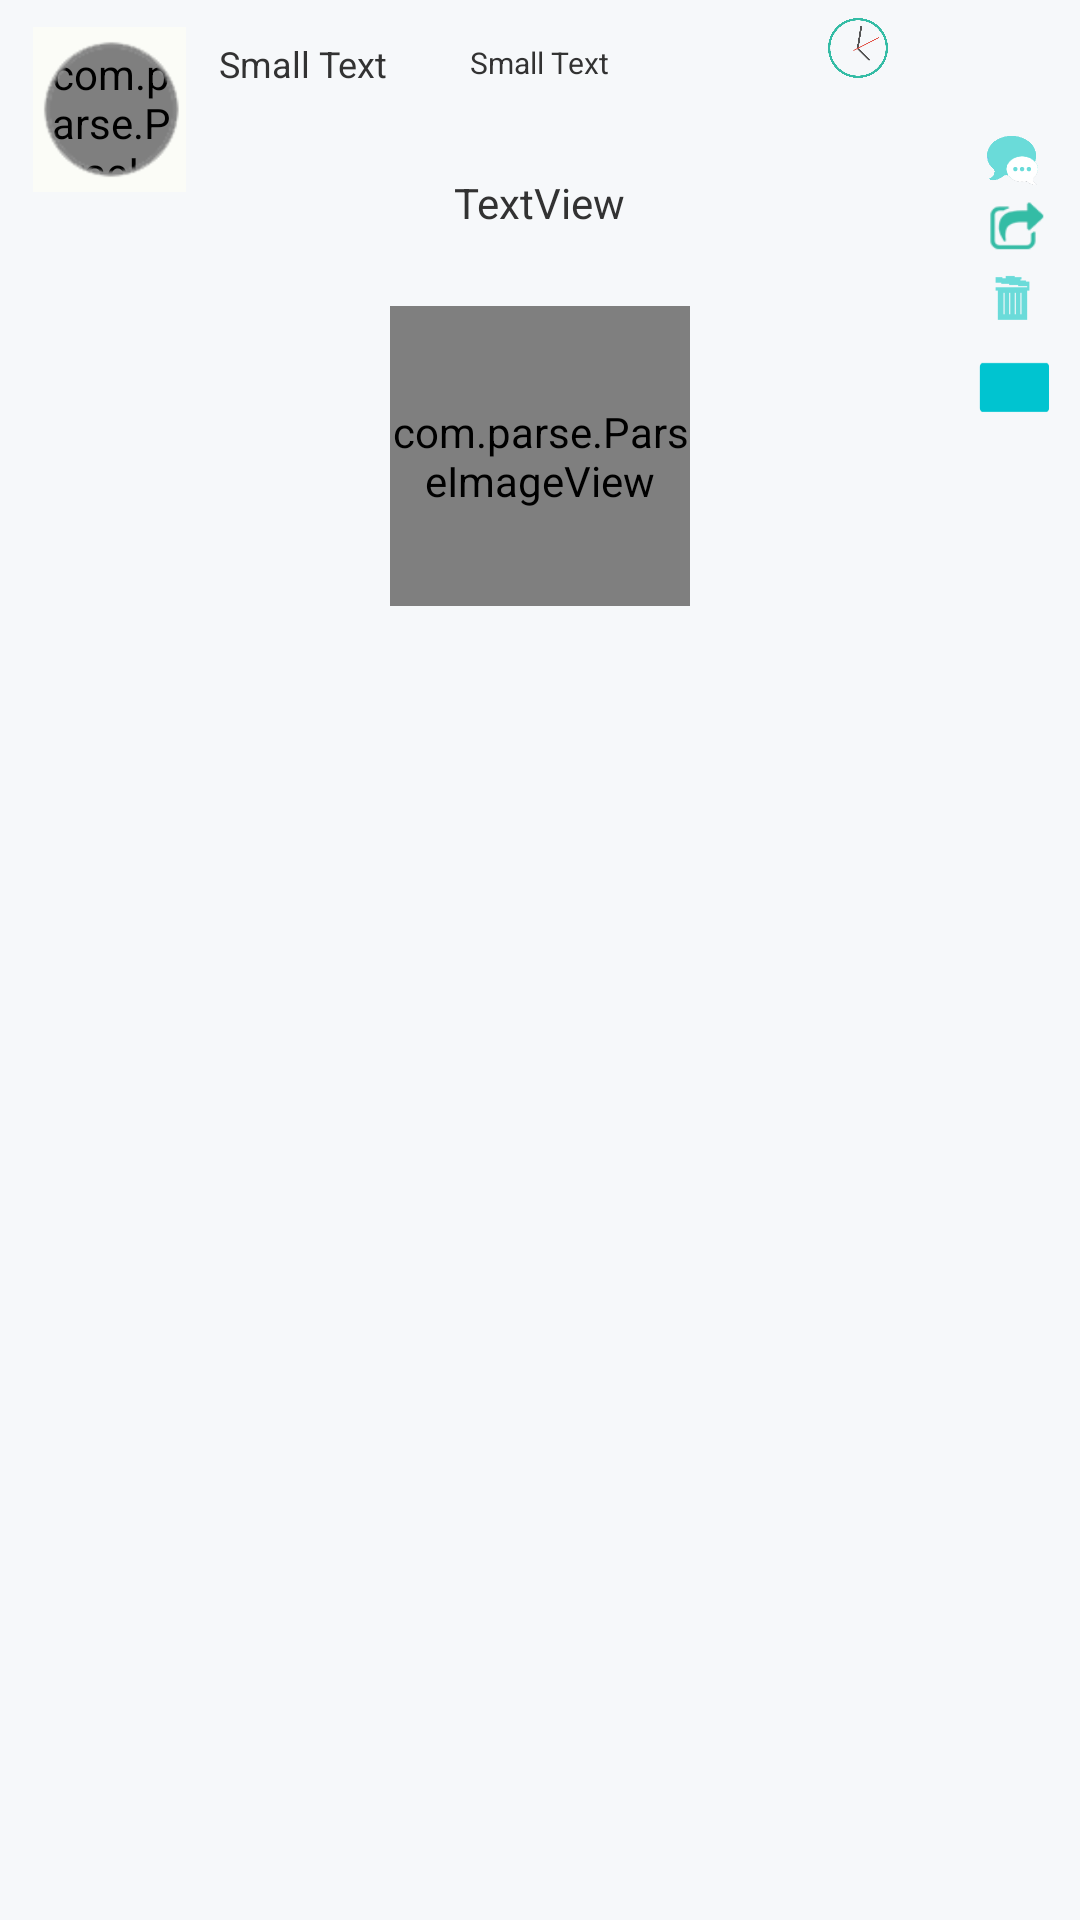

Screen size 1080x1920. Icon name, then its box in pixels as bbox=[x1, y1, x2, y2]:
delete: bbox=[995, 276, 1030, 320]
replay: bbox=[987, 136, 1038, 185]
repost: bbox=[990, 202, 1044, 250]
time: bbox=[828, 18, 888, 78]
